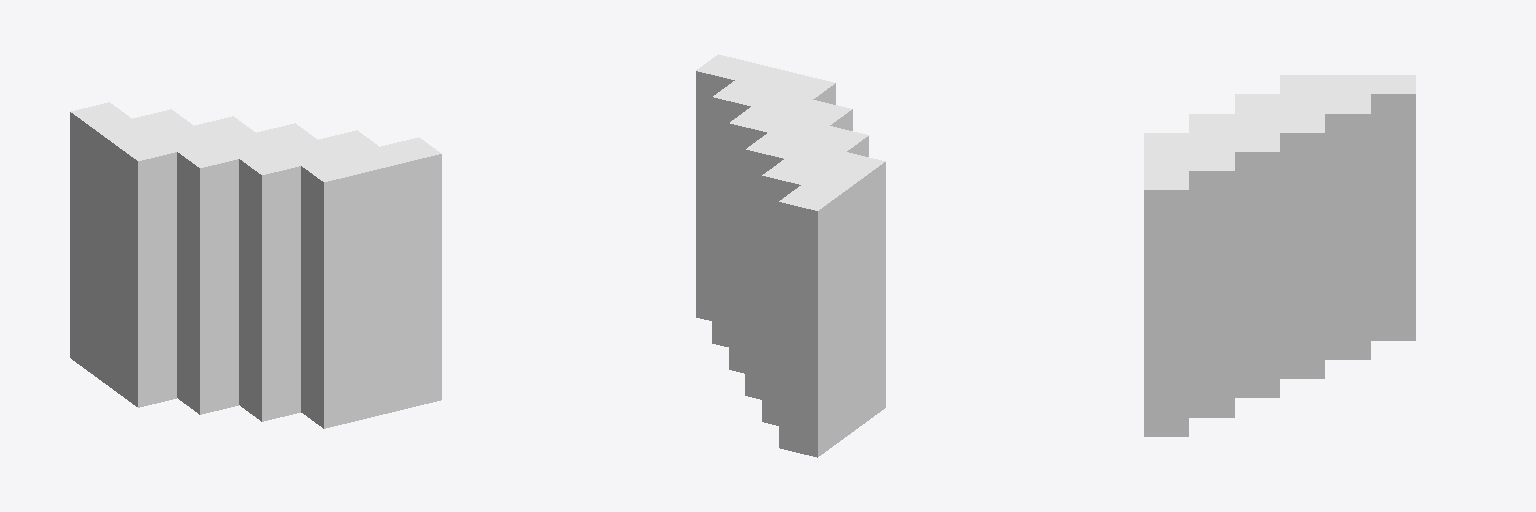
File: TriangleWall.obj
3 renders of one model, left to right at view 1: azimuth 30°, elevation 25°; view 2: azimuth 150°, elevation 25°; view 3: azimuth 270°, elevation 25°, orthographic.
Visible parts, largest first — view 1: object 1; view 2: object 1; view 3: object 1.
Boxes of the visible parts, x1=… form: object 1: x1=70, y1=102, x2=441, y2=428; object 1: x1=696, y1=54, x2=885, y2=457; object 1: x1=1144, y1=75, x2=1415, y2=436.
Bounding box in the file's own units: 0.6 × 0.6 × 0.6.